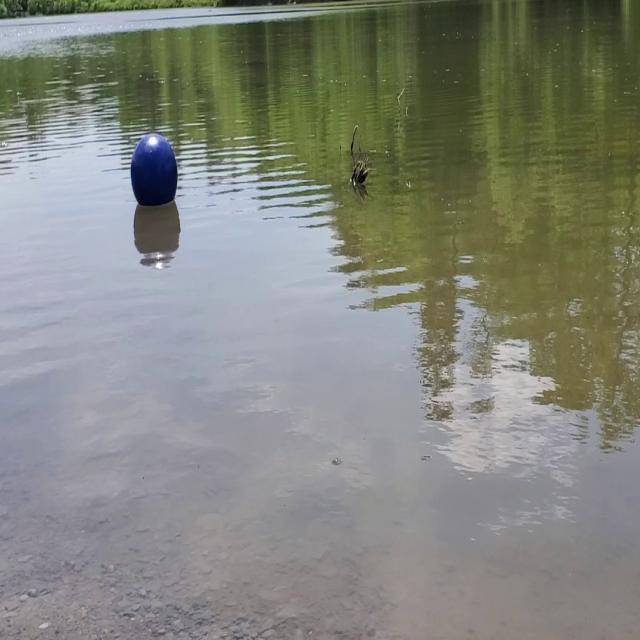buoy: (128, 130, 180, 212)
